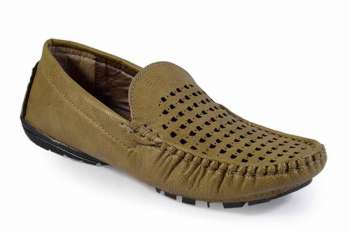Footwear: (17, 36, 330, 210)
